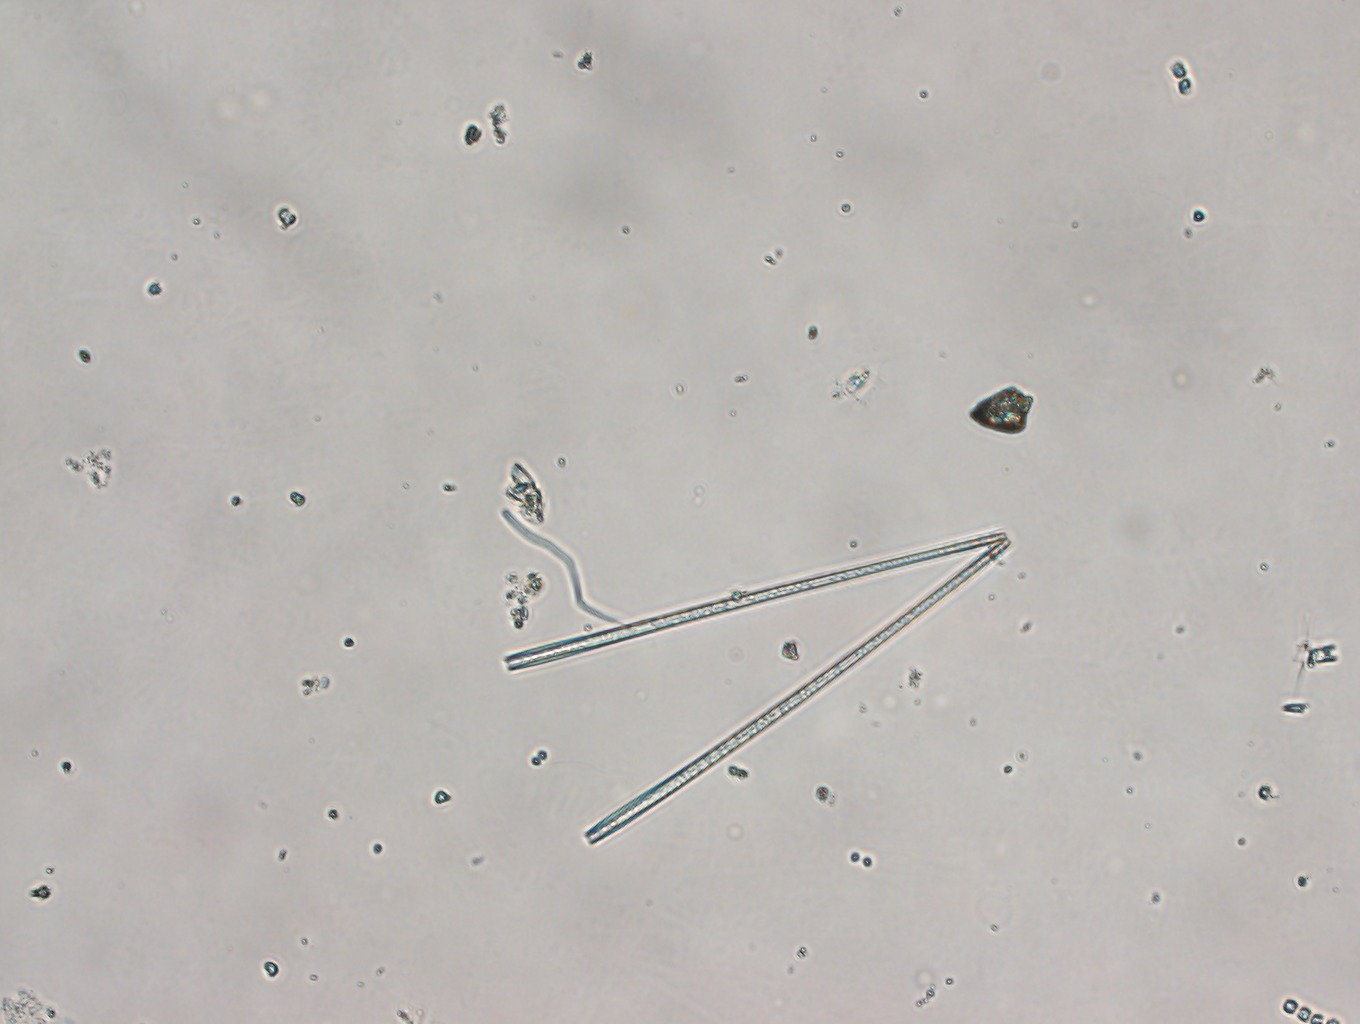thalassionema frauenfeldii: (502, 530, 1011, 847)
